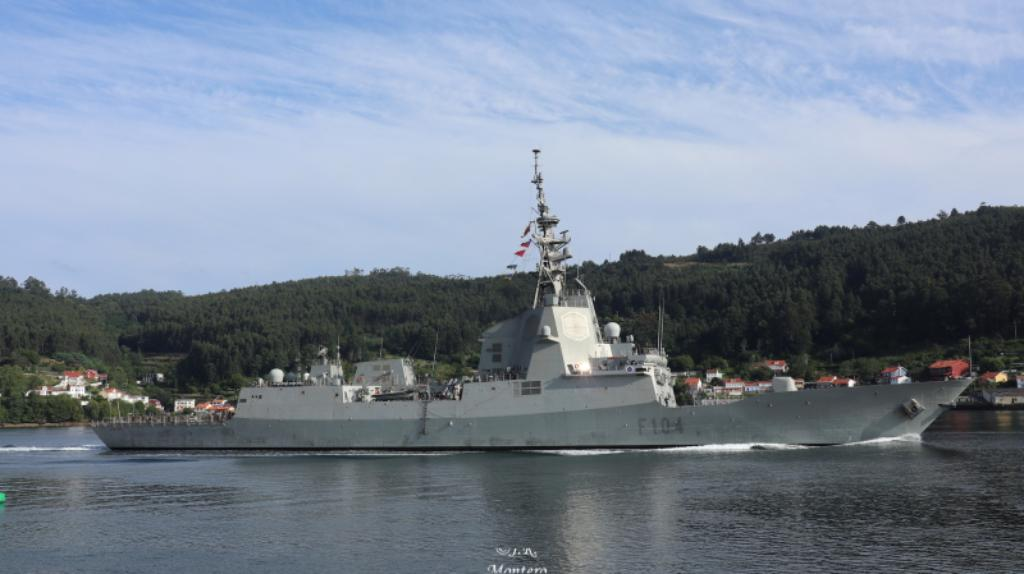Warship: (51, 148, 983, 454)
